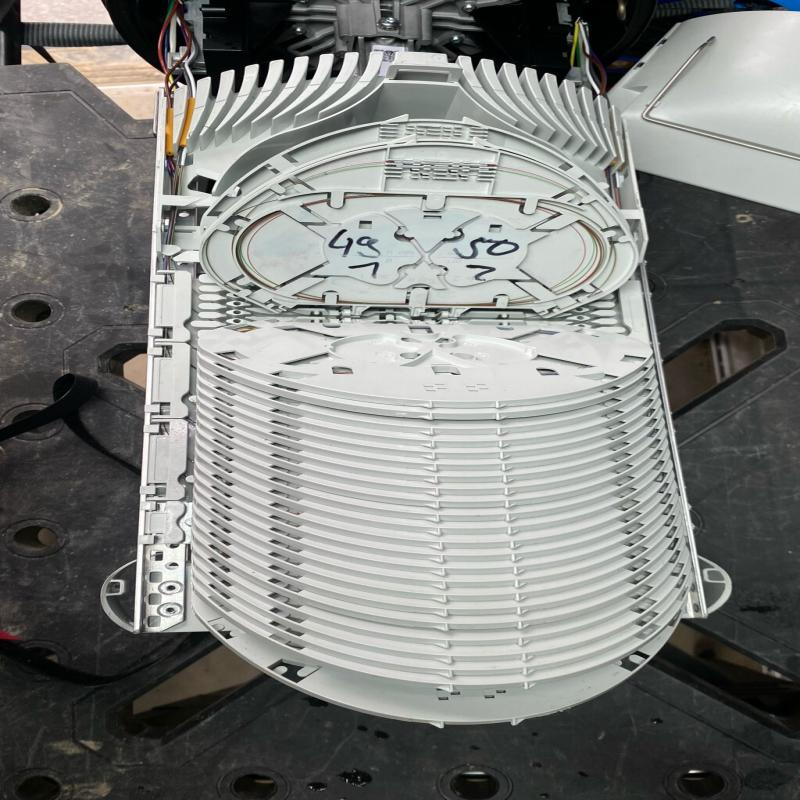NT-Muffen: (105, 0, 734, 732)
